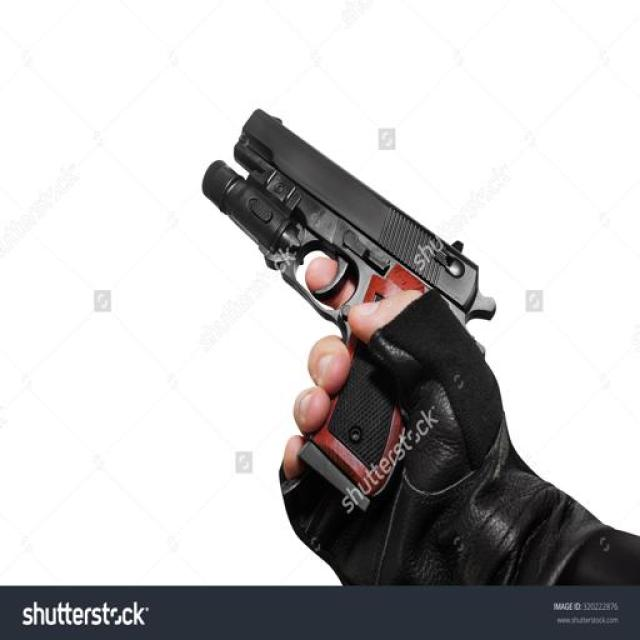pistol: (199, 103, 501, 511)
